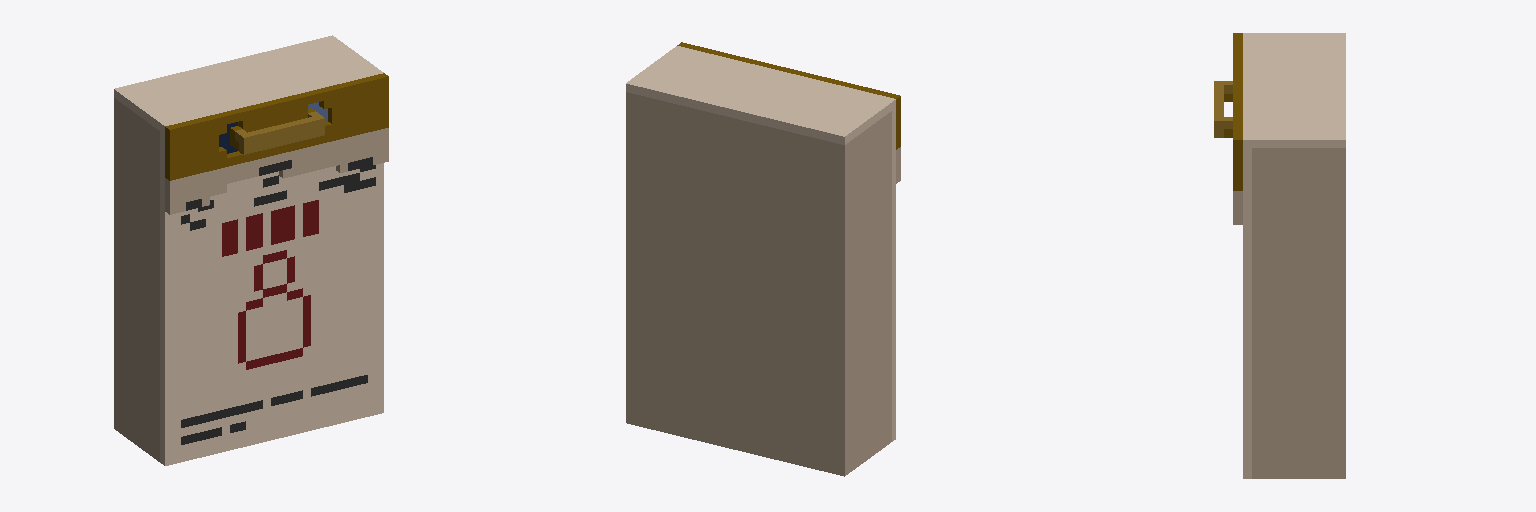
3 renders of one model, left to right at view 1: azimuth 30°, elevation 25°; view 2: azimuth 150°, elevation 25°; view 3: azimuth 270°, elevation 25°, orthographic.
Parts seen in each view (by area): view 1: object 1; view 2: object 1; view 3: object 1.
Part boxes in pixels (x1,y1,x2,y2): object 1: (114,35,388,465); object 1: (626,42,900,476); object 1: (1214,33,1345,478).
Size of the model in its own units: 2.7 by 4 by 1.4.
Materials: 1 (1 with a texture image).